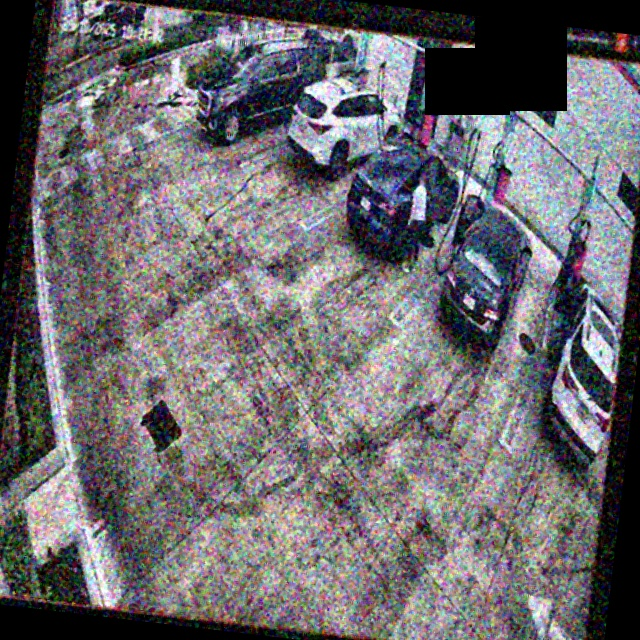Car: (343, 123, 466, 265), (437, 197, 536, 348), (285, 70, 405, 182)
